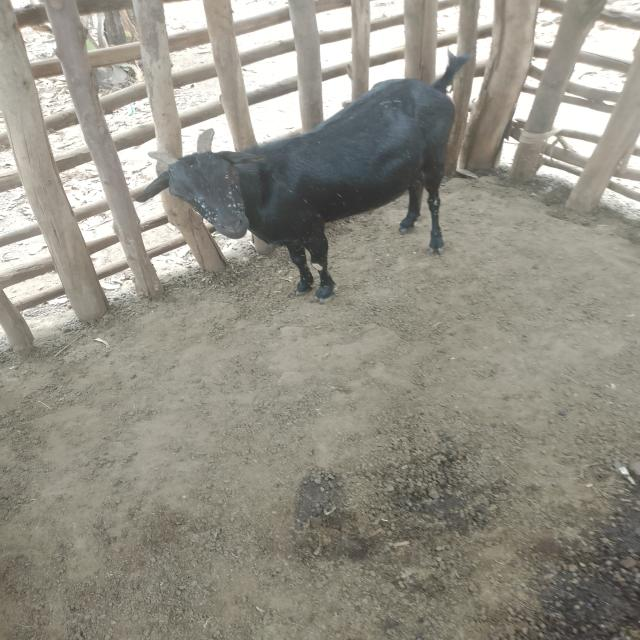goat: (102, 25, 551, 348)
